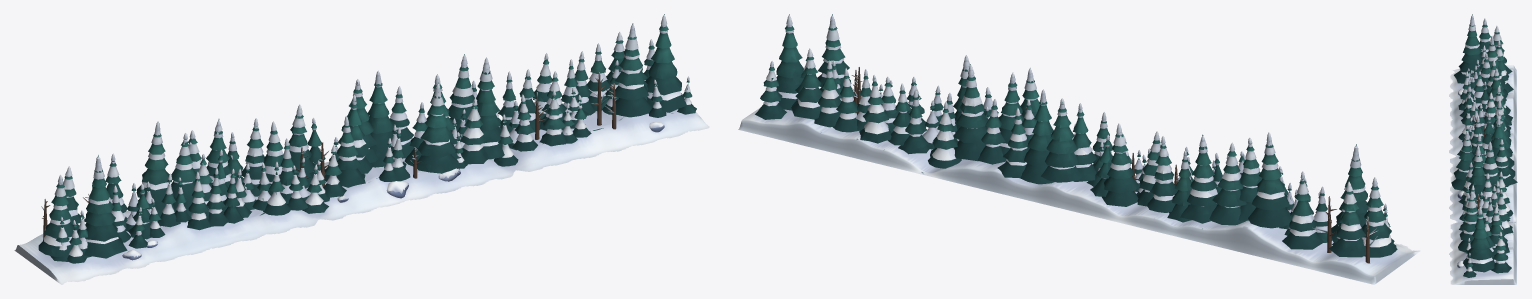
Rendered from FP_B08_FirForestBand.fbx.
3 renders of one model, left to right at view 1: azimuth 30°, elevation 25°; view 2: azimuth 150°, elevation 25°; view 3: azimuth 270°, elevation 25°, orthographic. The views are drawn at different scales.
Visible parts, largest first — view 1: Firs_LOD0, Bank_LOD0, BareTrees_LOD0; view 2: Firs_LOD0, Bank_LOD0, BareTrees_LOD0; view 3: Firs_LOD0, Bank_LOD0, BareTrees_LOD0.
Part boxes in pixels (<box>): Firs_LOD0: <box>38,14,696,263</box>; Bank_LOD0: <box>14,109,709,284</box>; BareTrees_LOD0: <box>41,72,616,240</box>; Firs_LOD0: <box>755,14,1397,257</box>; Bank_LOD0: <box>738,108,1420,284</box>; BareTrees_LOD0: <box>851,66,1377,263</box>; Firs_LOD0: <box>1451,14,1517,277</box>; Bank_LOD0: <box>1449,65,1516,284</box>; BareTrees_LOD0: <box>1473,43,1503,214</box>.
Size of what is drawn, in the model's own units: 60 by 10.11 by 8.1.
